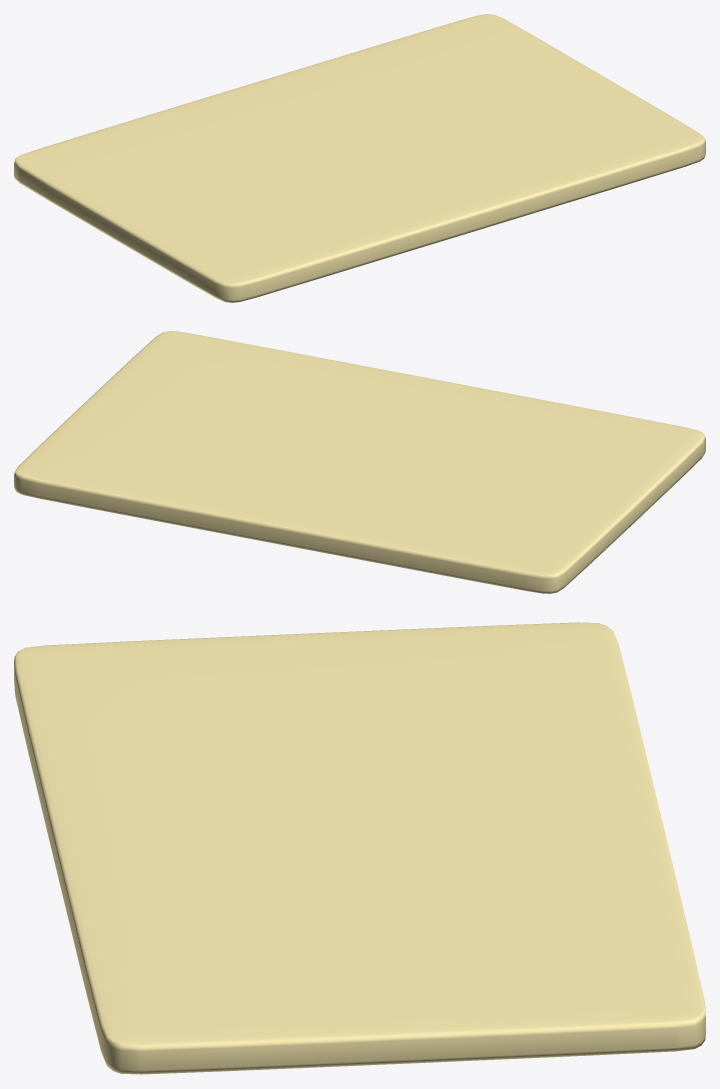
Rendered from PROP_PicnicBlanket_v2.glb.
3 renders of one model, top to bottom at view 1: azimuth 30°, elevation 25°; view 2: azimuth 150°, elevation 25°; view 3: azimuth 270°, elevation 25°, orthographic. The views are drawn at different scales.
Parts seen in each view (by area): view 1: PROP_PicnicBlanket_v2; view 2: PROP_PicnicBlanket_v2; view 3: PROP_PicnicBlanket_v2.
Part boxes in pixels (x1,y1,x2,y2): PROP_PicnicBlanket_v2: (14,14,705,302); PROP_PicnicBlanket_v2: (14,331,705,593); PROP_PicnicBlanket_v2: (14,622,705,1074).
Size of the model in its own units: 1.58 by 0.0556 by 1.09.
